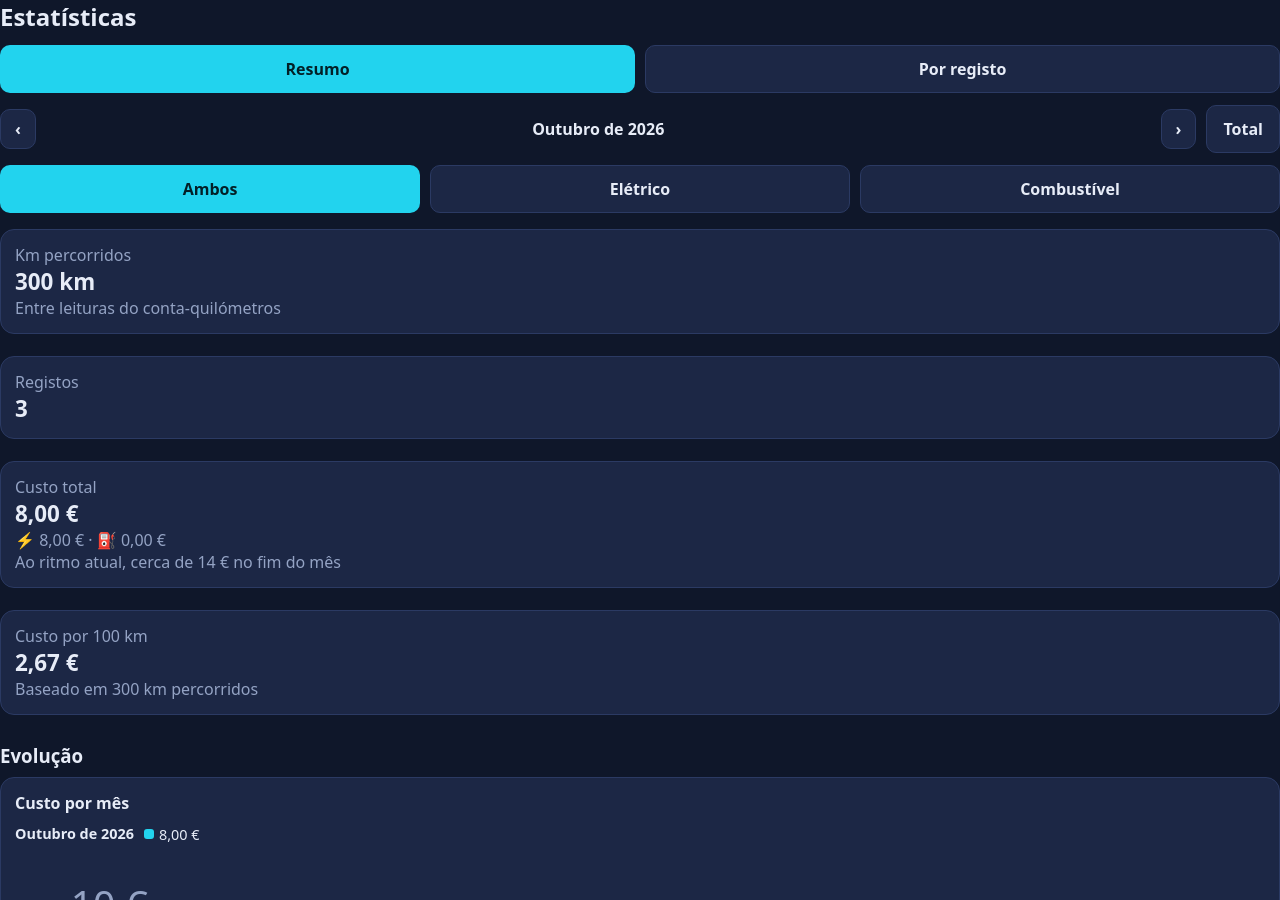
Test: StatsScreen › shows the efficiency of each charge in the per-entry view
This screenshot has width=1280, height=900.
Step 1. Click the button "Por registo" → [962, 69], box [645,45,1279,93]
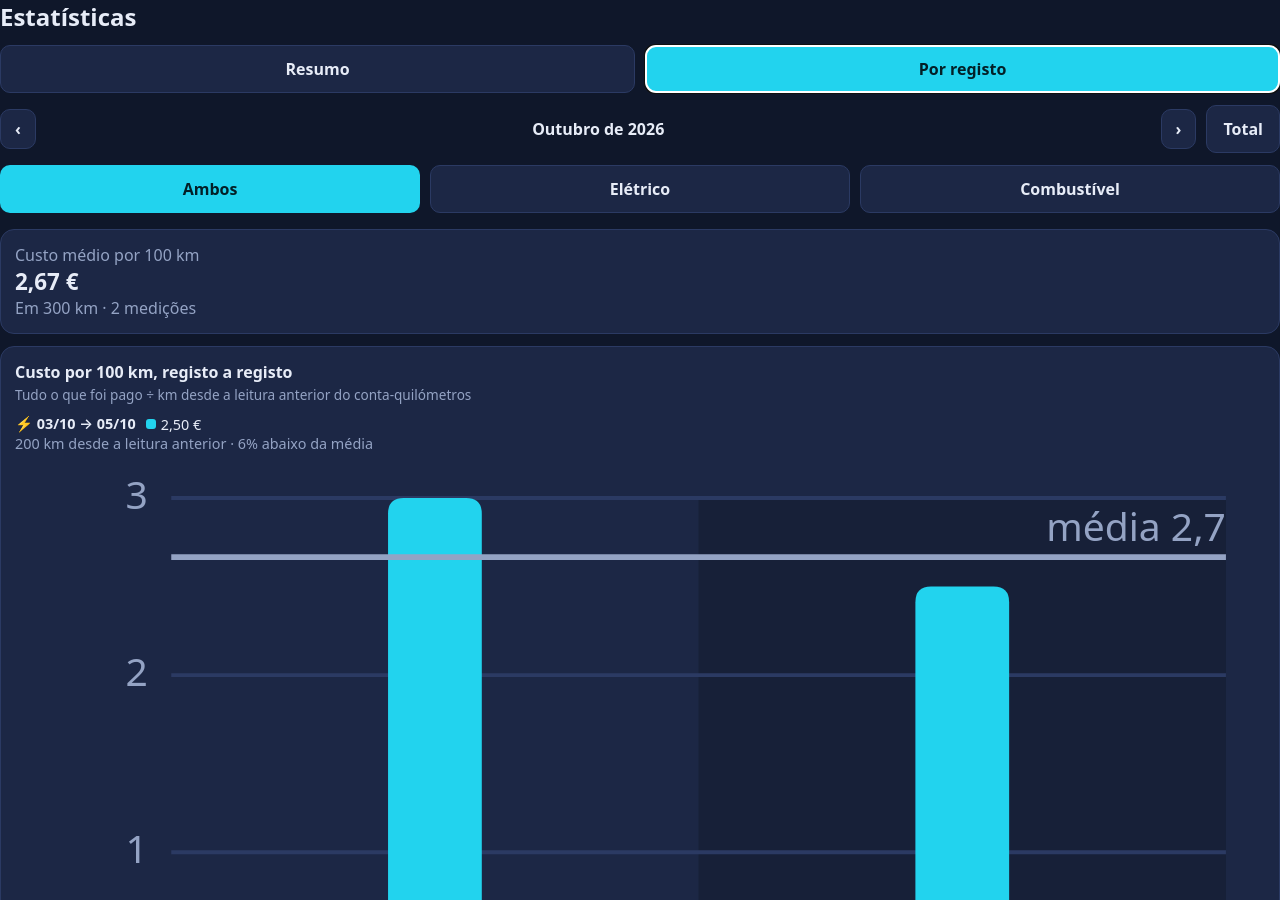
Step 2. Click the button "Elétrico" → [640, 189], box [430,165,850,213]
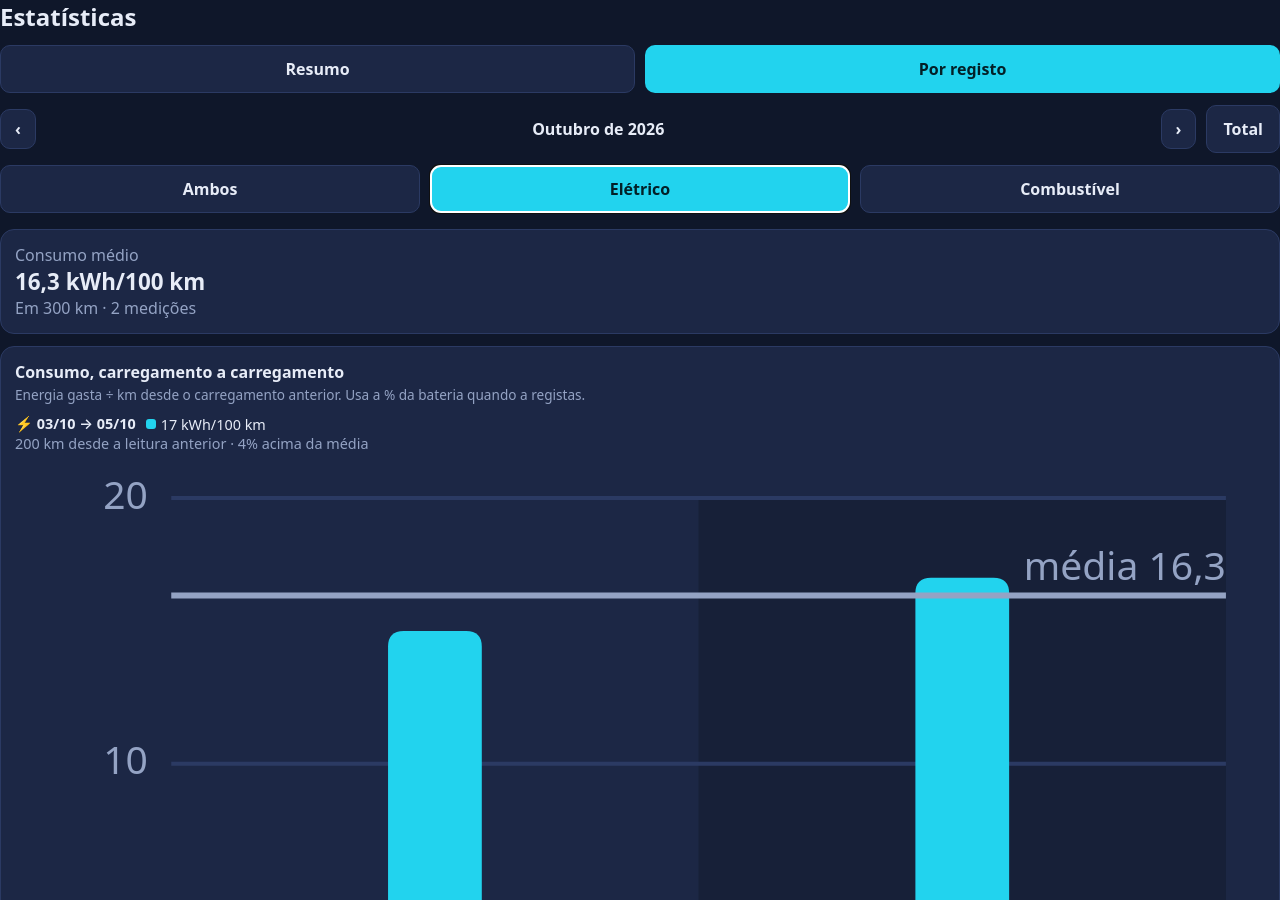
expect the text "Consumo médio" is shown: met, box [15,244,139,266]
expect the text "16,3 kWh/100 km" is shown: met, box [15,266,205,297]
expect the text "200 km desde a leitura anterior · 4% acima da média" is shown: met, box [15,434,368,452]
